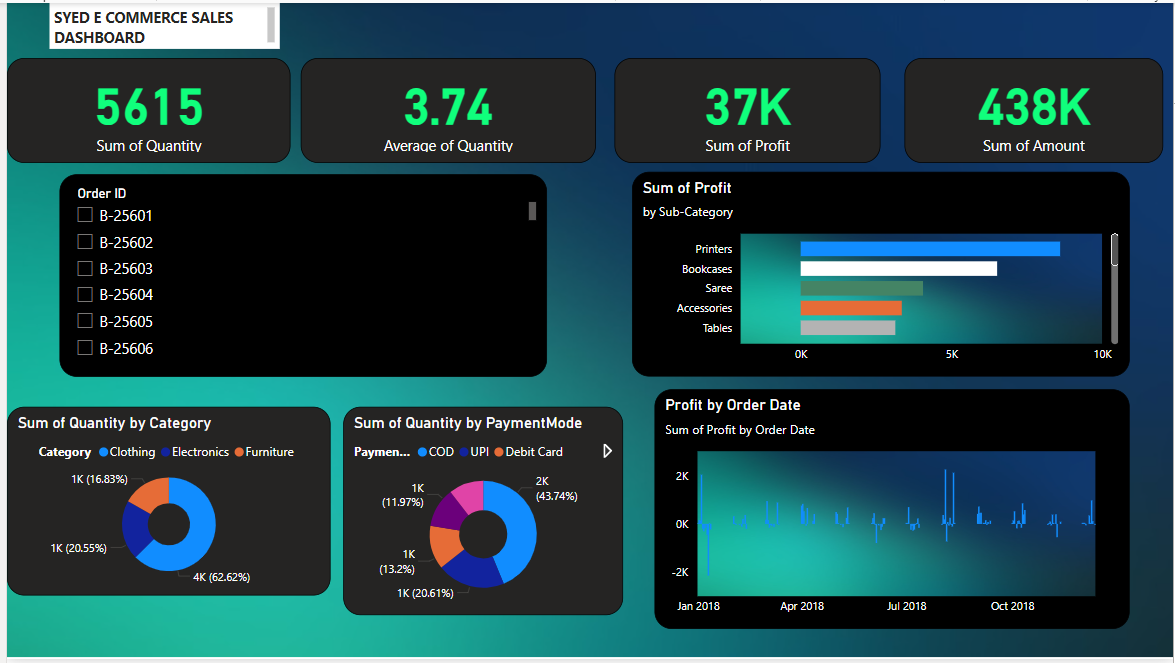

What the dashboard file says about the page in this screenshot:
{"tool":"powerbi","page":{"name":"Page 1","canvas":[1280,720],"ordinal":0},"visuals":[{"type":"columnChart","title":"Profit by Order Date","fields":{"Category":["Orders.Order Date"],"Y":["Details.Profit"]},"box":[710.8,424,521.4,263.5],"z":0},{"type":"barChart","fields":{"Category":["Details.Sub-Category"],"Y":["Details.Profit"]},"box":[686.1,185.2,546.1,225],"z":1000},{"type":"donutChart","fields":{"Category":["Details.Category"],"Y":["Details.Quantity"]},"box":[0,443.2,355.4,207.2],"z":2000},{"type":"donutChart","fields":{"Y":["Details.Quantity"],"Category":["Details.PaymentMode"]},"box":[369.1,443.2,307.4,229.2],"z":3000},{"type":"card","fields":{"Values":["Details.Profit"]},"box":[666.9,60.4,292.3,115.3],"z":4000},{"type":"card","fields":{"Values":["Details.Amount"]},"box":[985.3,60.4,284,115.3],"z":5000},{"type":"card","fields":{"Values":["Details.Quantity"]},"box":[0,60.4,311.5,115.3],"z":6000},{"type":"card","fields":{"Values":["Details.Quantity"]},"box":[322.5,60.4,323.8,115.3],"z":7000},{"type":"textbox","box":[46.7,0,252.5,50.8],"z":8000},{"type":"slicer","fields":{"Values":["Details.Order ID"]},"box":[57.6,188,535.2,222.3],"z":9000}]}

Visuals, with their boxes in screenshot pixels (x1, y1, x2, y2), scaled from the page's 1280x720 canvas onto the 1175x663 screenshot:
"Profit by Order Date" columnChart: bbox=(652, 390, 1131, 633)
barChart - Details.Sub-Category x Details.Profit: bbox=(630, 171, 1131, 378)
donutChart - Details.Category x Details.Quantity: bbox=(0, 408, 326, 599)
donutChart - Details.Quantity x Details.PaymentMode: bbox=(339, 408, 621, 619)
card - Details.Profit: bbox=(612, 56, 881, 162)
card - Details.Amount: bbox=(904, 56, 1165, 162)
card - Details.Quantity: bbox=(0, 56, 286, 162)
card - Details.Quantity: bbox=(296, 56, 593, 162)
textbox: bbox=(43, 0, 275, 47)
slicer - Details.Order ID: bbox=(53, 173, 544, 378)
